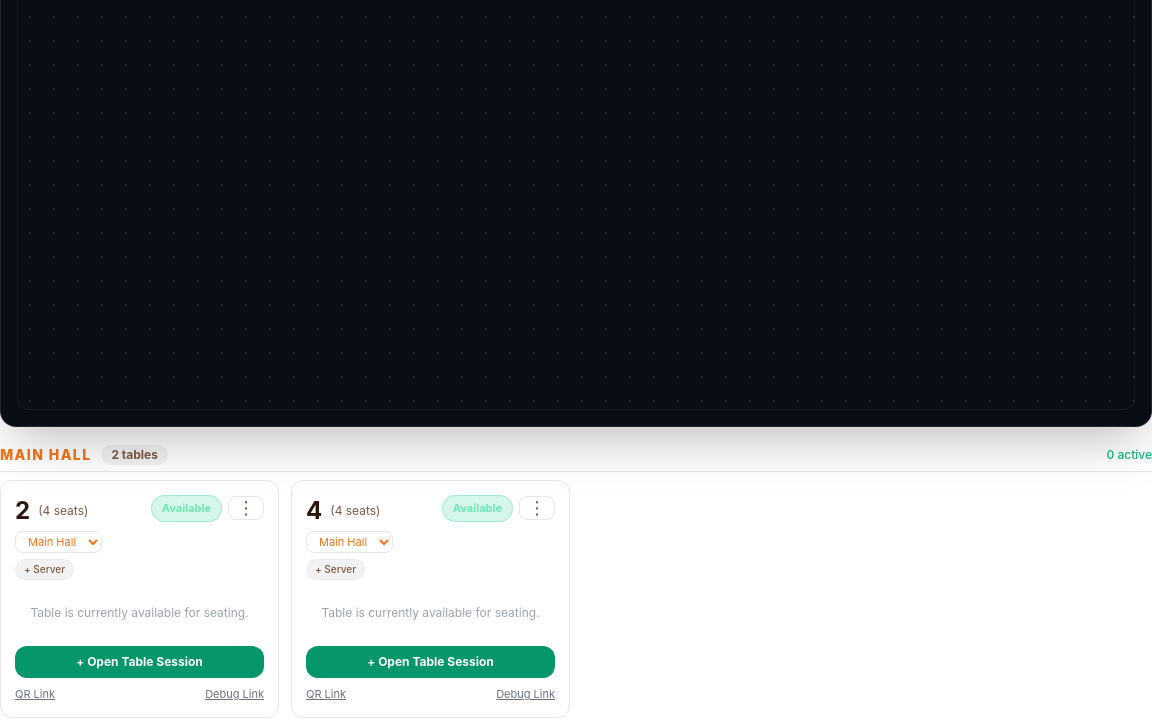
Test case: Table Server Assignment Filtering — Authoritative Designation Verification › 3. OwnerTables Modal Component Verification › renders ONLY active servers in the select dropdown inside Assign Server Modal
(page scrolled)
Click the 1st button titled "Assign server to Table 2" at (44, 570), box [15,559,74,580]
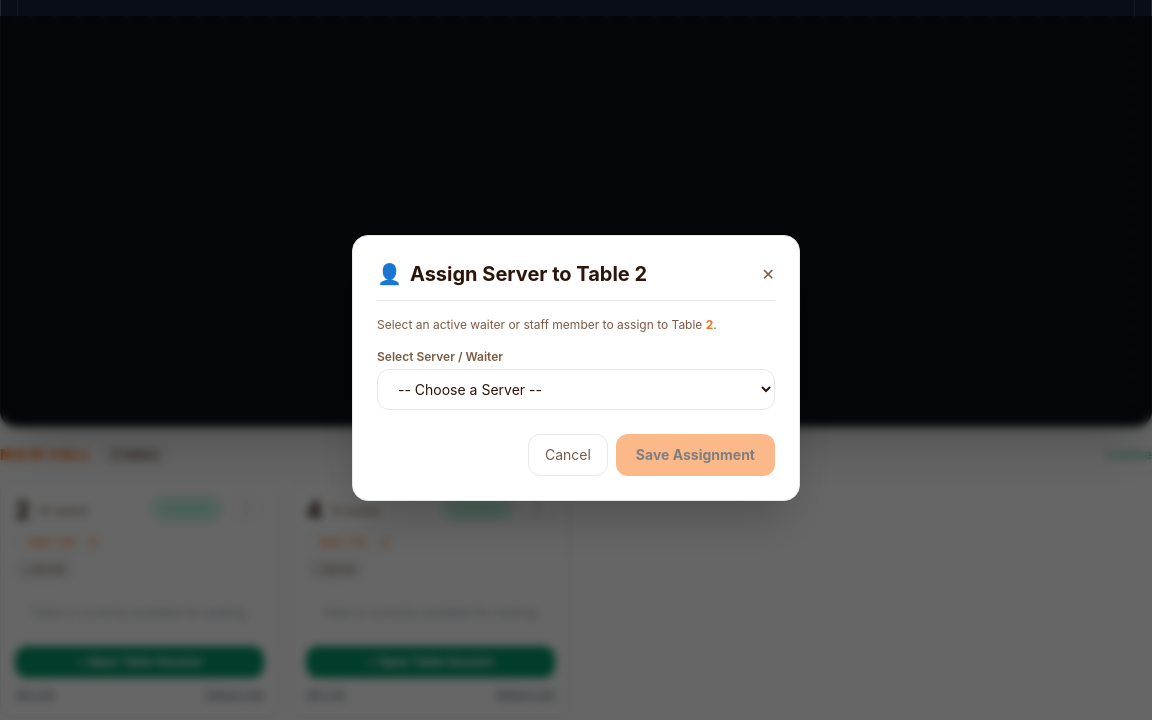
Result: the text "Assign Server to Table 2" is shown at [410,260,647,288]
Result: the dropdown labelled "Select Server / Waiter" is shown at [377,369,775,410]
